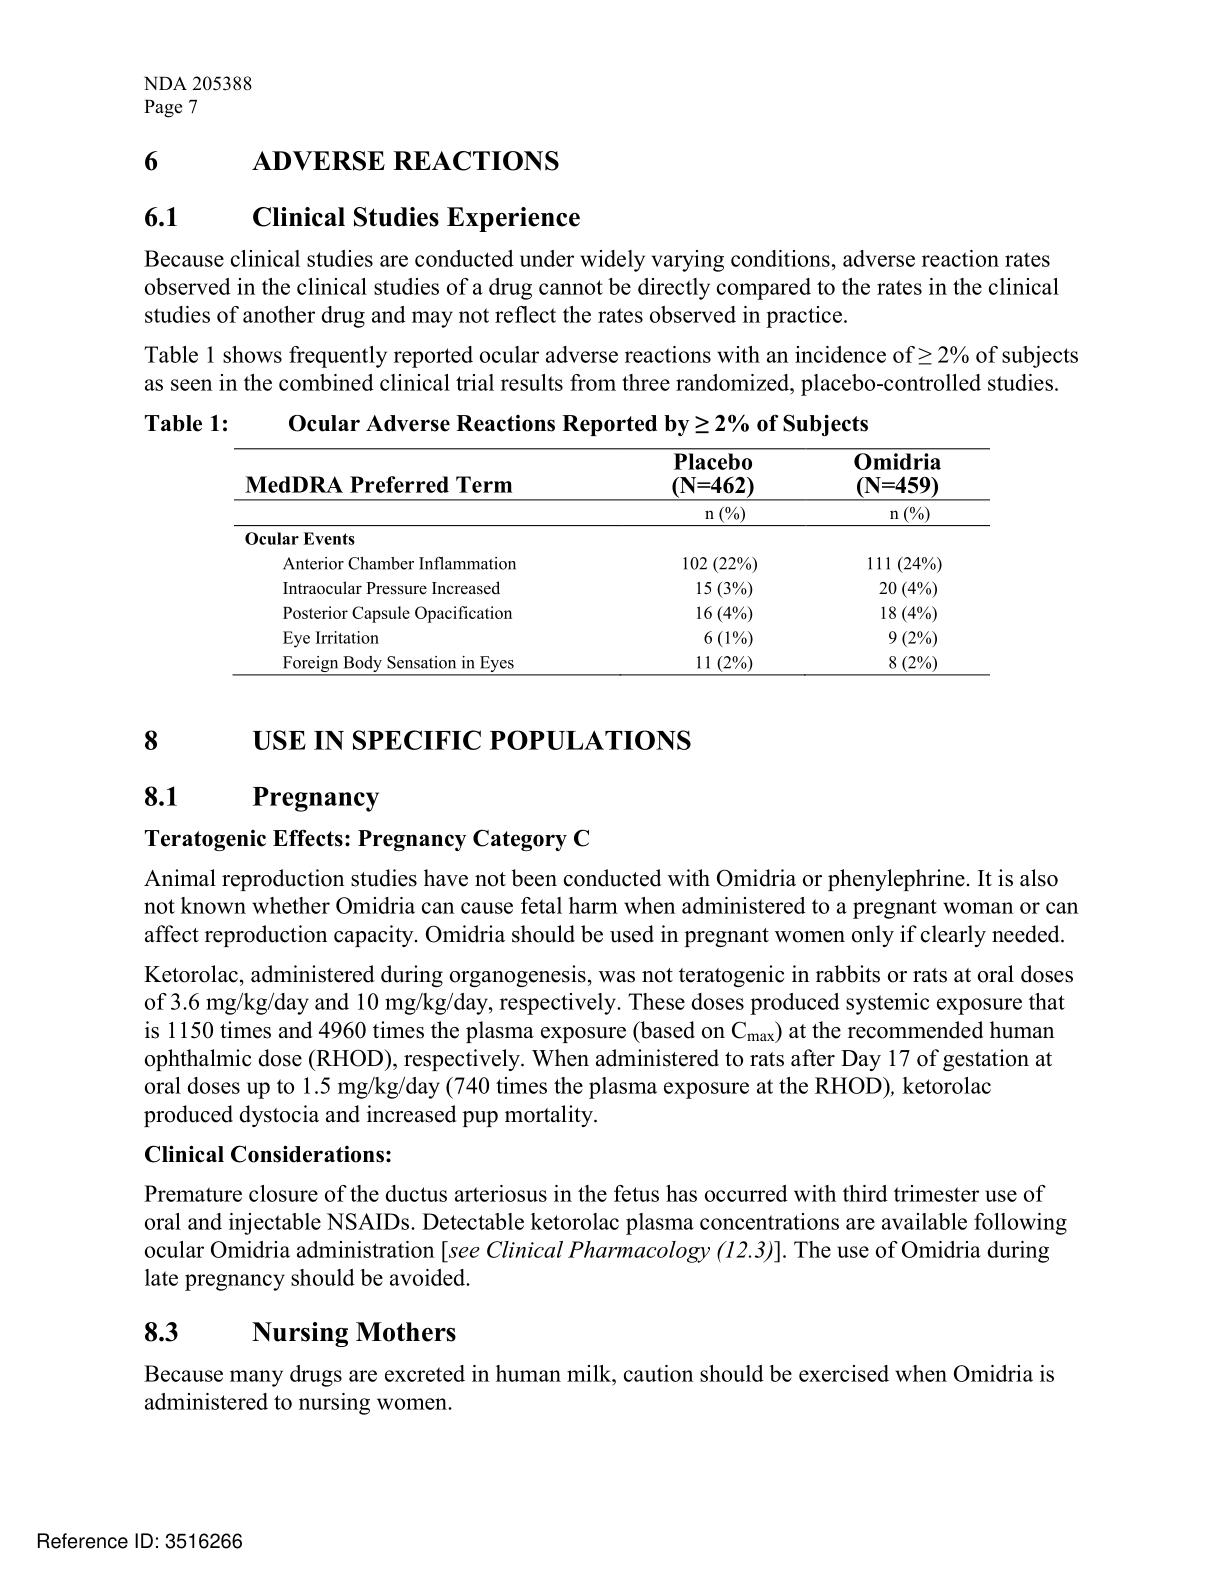partial_lined: (231, 447, 993, 676)
